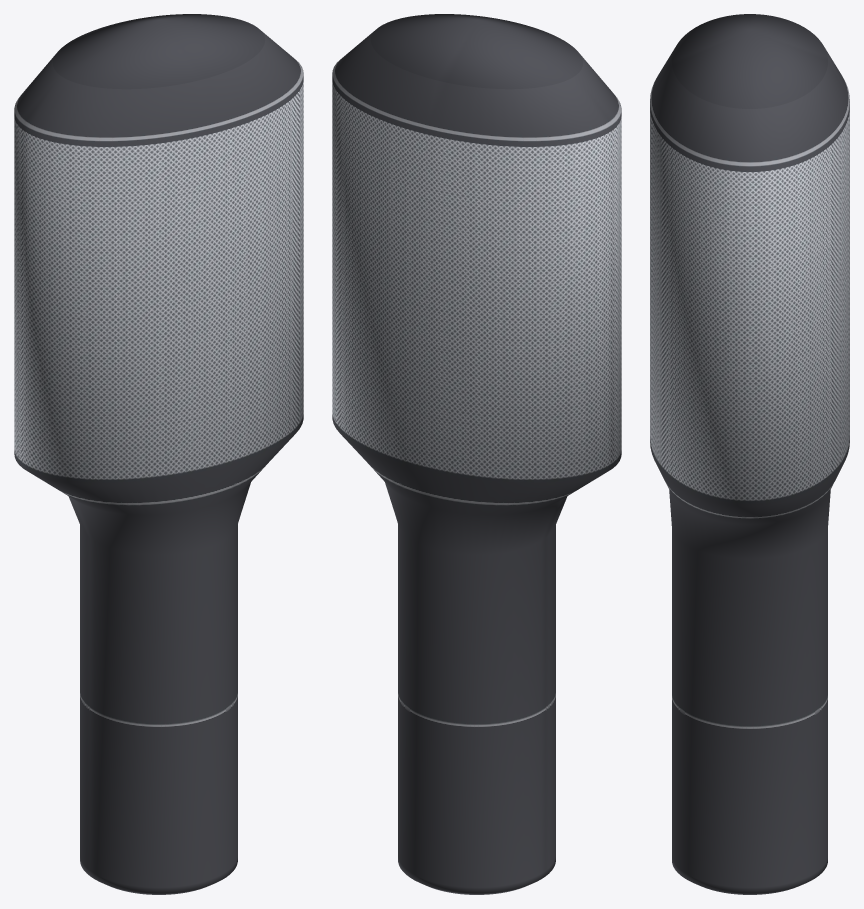
The model's file is aea-r84.glb.
3 views of the same model, side by side, from view 1: azimuth 30°, elevation 25°; view 2: azimuth 150°, elevation 25°; view 3: azimuth 270°, elevation 25° (orthographic).
Parts seen in each view (by area): view 1: aea-r84-body; view 2: aea-r84-body; view 3: aea-r84-body.
Boxes of the visible parts, left/top/right/bottom form: aea-r84-body: left=14, top=14, right=303, bottom=894; aea-r84-body: left=332, top=14, right=621, bottom=894; aea-r84-body: left=650, top=14, right=849, bottom=894.
Size of the model in its own units: 0.099 by 0.295 by 0.064.
Materials: 1 (1 with a texture image).
